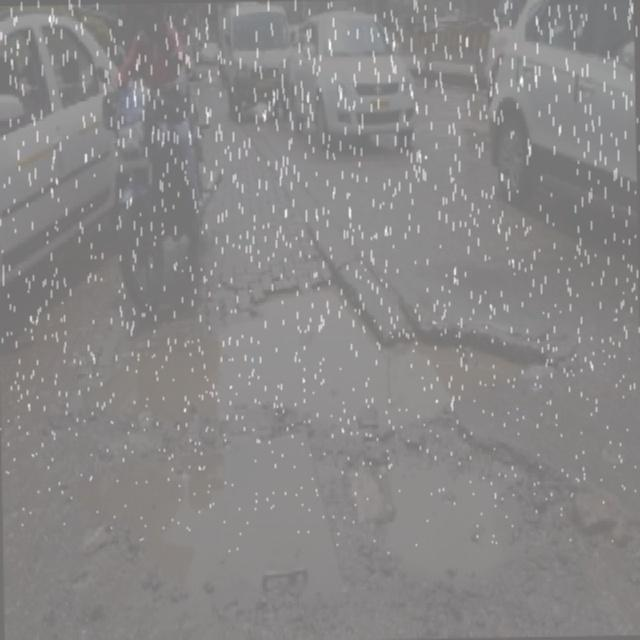Pothole: (63, 248, 592, 463), (324, 449, 402, 537)
